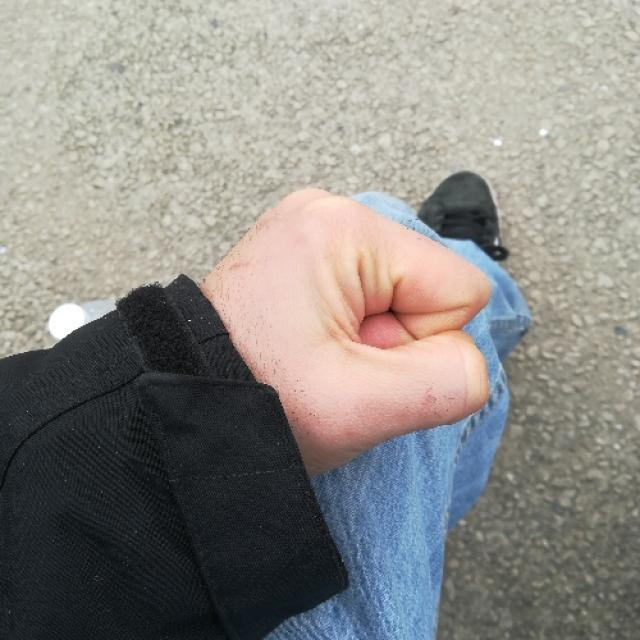rock: (224, 190, 492, 428)
